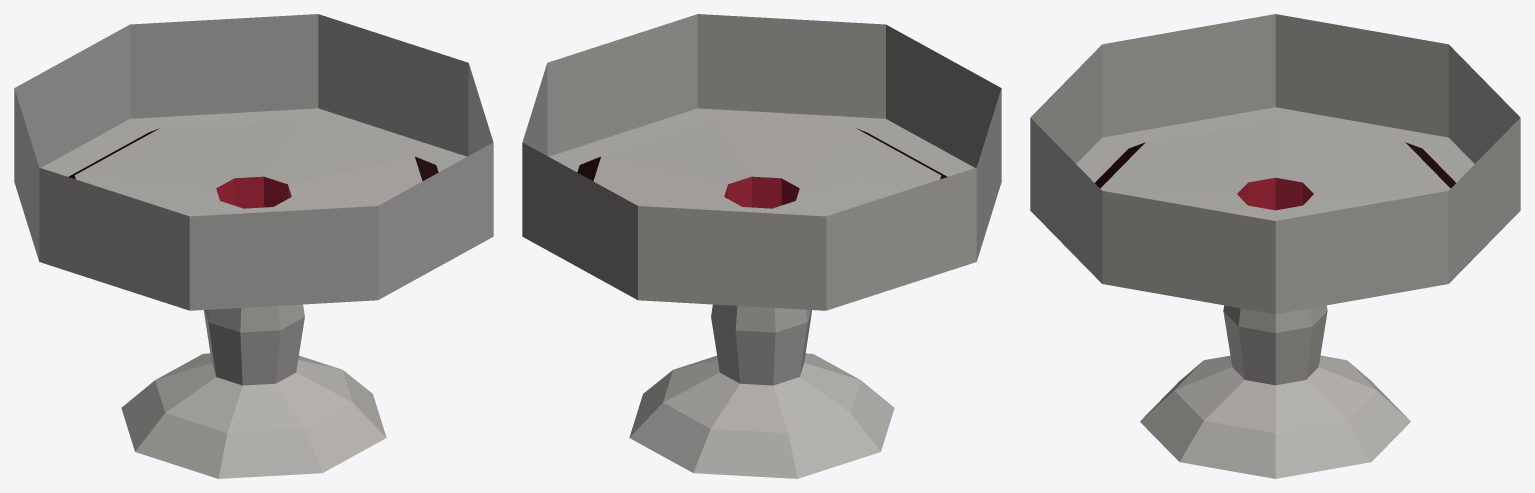
Rendered from FireSprinkler.fbx.
3 renders of one model, left to right at view 1: azimuth 30°, elevation 25°; view 2: azimuth 150°, elevation 25°; view 3: azimuth 270°, elevation 25°, orthographic.
Visible parts, largest first — view 1: FireSprinkler; view 2: FireSprinkler; view 3: FireSprinkler.
Part boxes in pixels (left/top/right/bottom): FireSprinkler: left=14, top=14, right=493, bottom=478; FireSprinkler: left=522, top=14, right=1001, bottom=478; FireSprinkler: left=1030, top=14, right=1520, bottom=478.
Size of the model in its own units: 0.1831 by 0.1253 by 0.1831.
